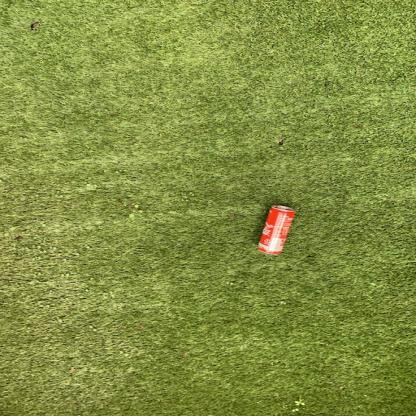trash: (256, 204, 296, 256)
